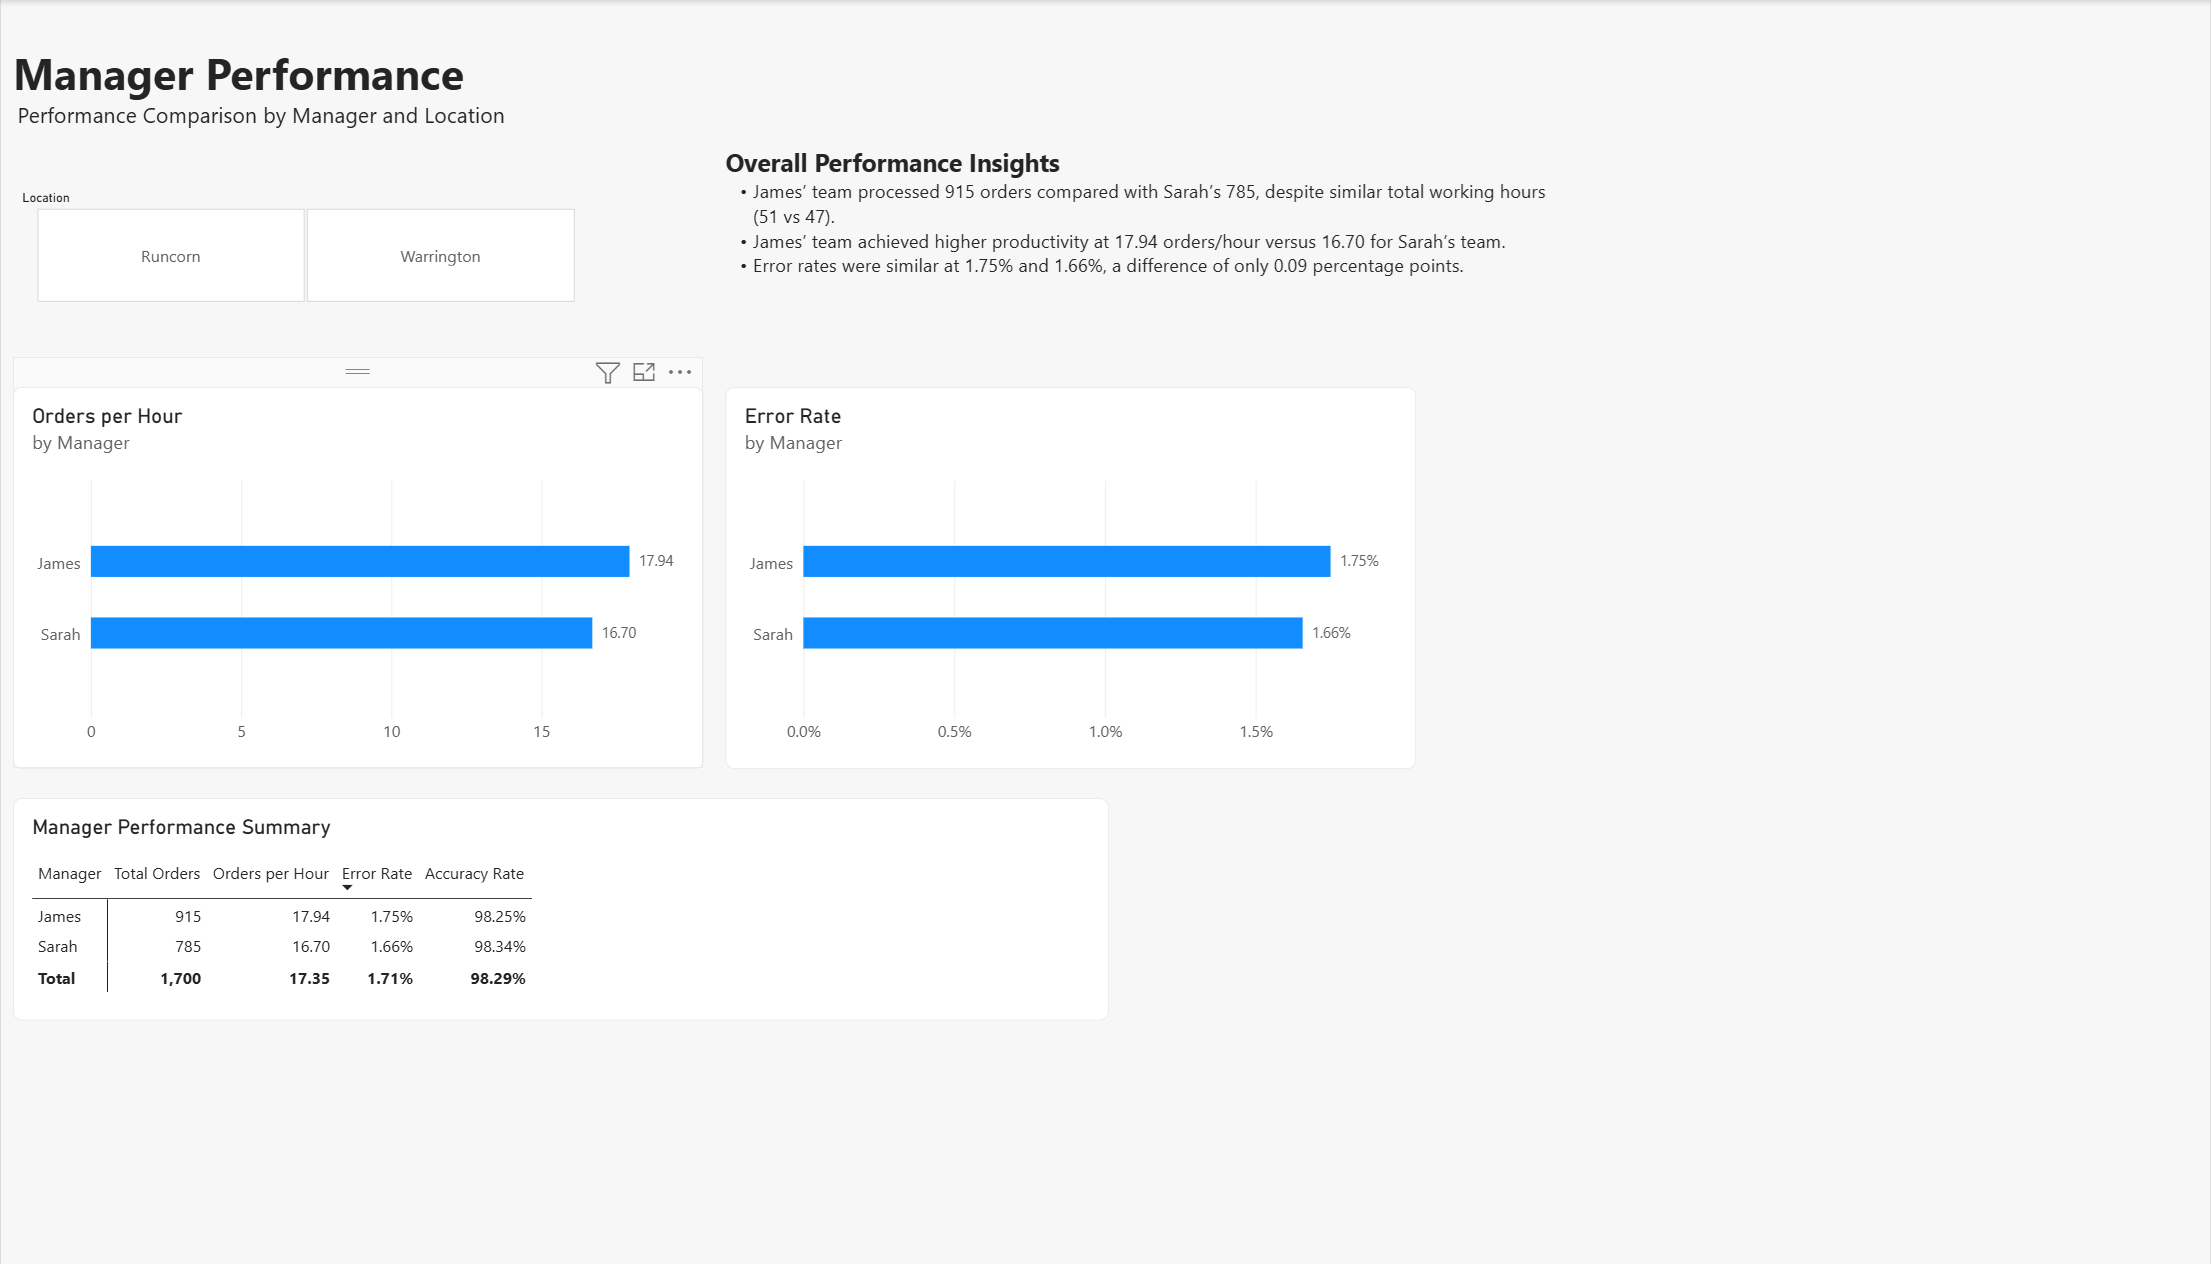

Layout of this report page (visuals, bound fields, positions):
{"tool":"powerbi","page":{"name":"Manager Performance","canvas":[1920,1080],"ordinal":1},"visuals":[{"type":"clusteredBarChart","fields":{"Category":["EmployeeInfo.Manager"],"Y":["WarehouseData_1__2.Orders per Hour"]},"box":[10,310,600,331.7],"z":0},{"type":"clusteredBarChart","fields":{"Category":["EmployeeInfo.Manager"],"Y":["WarehouseData_1__2.Error Rate"]},"box":[630,310,600,331.7],"z":1000},{"type":"pivotTable","title":"Manager Performance Summary","fields":{"Rows":["EmployeeInfo.Manager"],"Values":["WarehouseData_1__2.Total Orders","WarehouseData_1__2.Orders per Hour","WarehouseData_1__2.Error Rate","WarehouseData_1__2.Accuracy Rate"]},"box":[10,666.7,951.7,193.3],"z":2000},{"type":"slicer","fields":{"Values":["EmployeeInfo.Location"]},"box":[10,140,506.7,98.3],"z":3000},{"type":"textbox","box":[10,11.7,506.7,98.3],"z":4000},{"type":"textbox","box":[630,100,721.7,440],"z":4001}]}

Visuals, with their boxes in screenshot pixels (x1, y1, x2, y2), scaled from the page's 1920x1080 canvas onto the 2211x1264 screenshot:
clusteredBarChart - EmployeeInfo.Manager x WarehouseData_1__2.Orders per Hour: bbox(12, 363, 702, 751)
clusteredBarChart - EmployeeInfo.Manager x WarehouseData_1__2.Error Rate: bbox(725, 363, 1416, 751)
"Manager Performance Summary" pivotTable: bbox(12, 780, 1107, 1007)
slicer - EmployeeInfo.Location: bbox(12, 164, 595, 279)
textbox: bbox(12, 14, 595, 129)
textbox: bbox(725, 117, 1557, 632)
